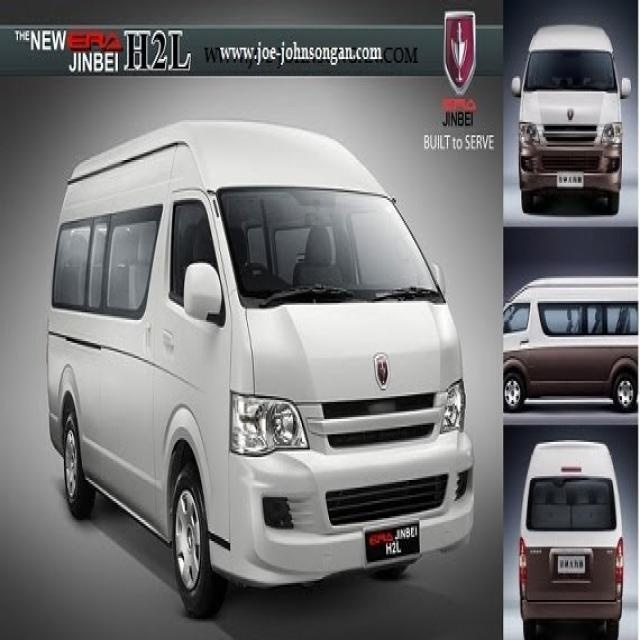Van: (44, 118, 493, 612)
